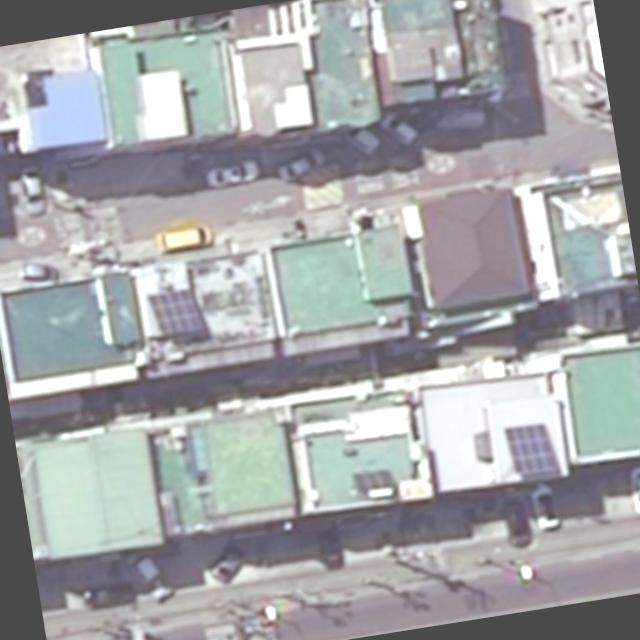solar: (504, 420, 561, 477), (146, 286, 206, 340)
